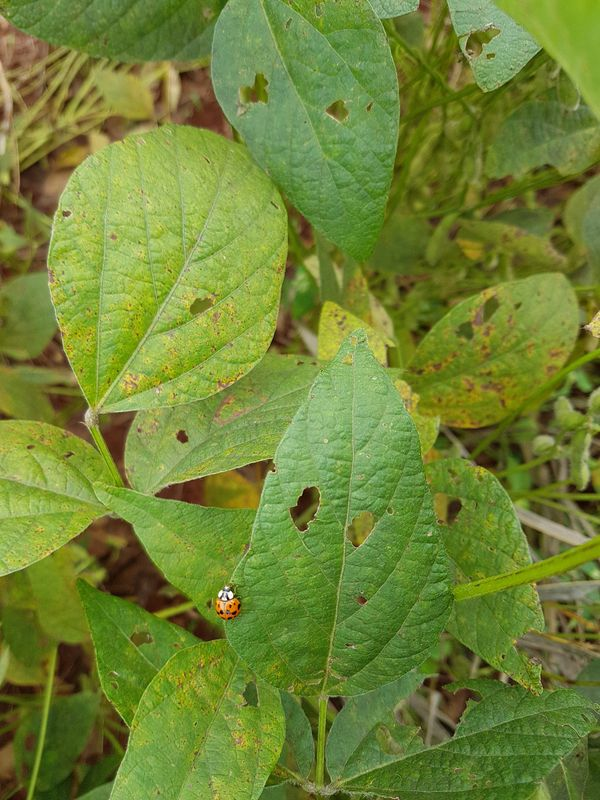Coccinellidae: (204, 580, 248, 625)
